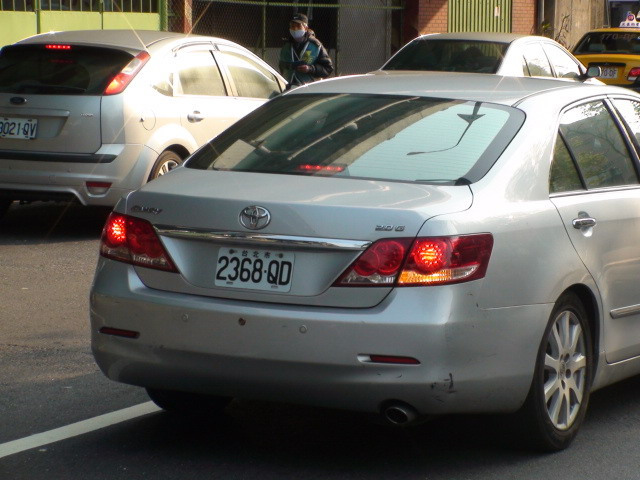plate: (213, 242, 295, 294), (1, 115, 42, 143)
